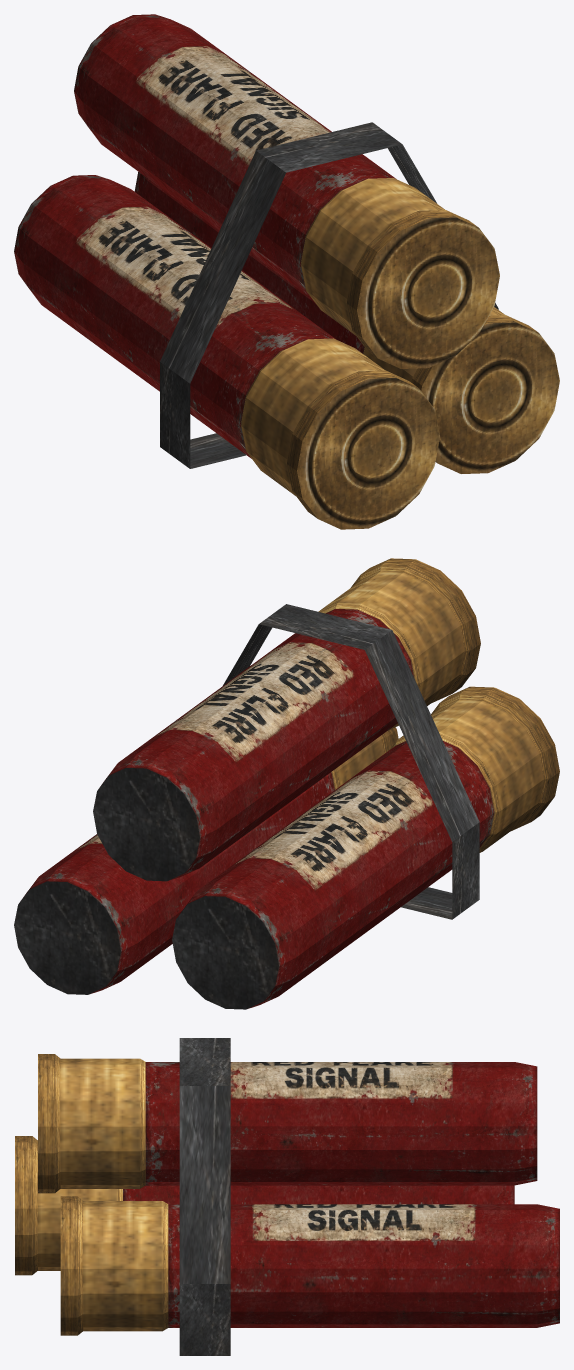
File: FlareAmmo.fbx
3 renders of one model, top to bottom at view 1: azimuth 30°, elevation 25°; view 2: azimuth 150°, elevation 25°; view 3: azimuth 270°, elevation 25°, orthographic. The views are drawn at different scales.
Visible parts, largest first — view 1: FlareBullet; view 2: FlareBullet; view 3: FlareBullet.
Boxes of the visible parts, x1=… form: FlareBullet: x1=14, y1=14, x2=559, y2=529; FlareBullet: x1=14, y1=558, x2=559, y2=1009; FlareBullet: x1=15, y1=1038, x2=559, y2=1355.
Bounding box in the file's own units: 5.3 × 4.64 × 9.62.
Materials: 1 (1 with a texture image).
